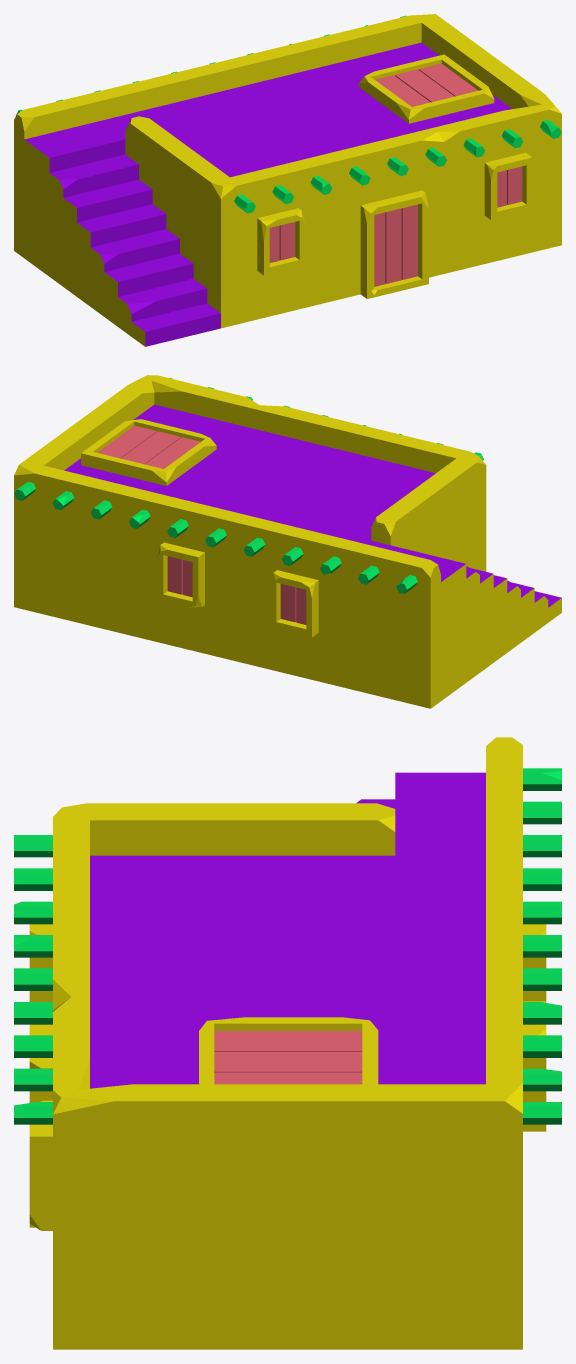
File: decoration-house-medium-egypt.fbx
3 renders of one model, top to bottom at view 1: azimuth 30°, elevation 25°; view 2: azimuth 150°, elevation 25°; view 3: azimuth 270°, elevation 25°, orthographic. The views are drawn at different scales.
Parts seen in each view (by area): view 1: decoration-house-medium-egypt; view 2: decoration-house-medium-egypt; view 3: decoration-house-medium-egypt.
Boxes of the visible parts, x1,y1,x2,y2 form: decoration-house-medium-egypt: [14, 14, 561, 346]; decoration-house-medium-egypt: [14, 375, 561, 708]; decoration-house-medium-egypt: [14, 737, 561, 1349].
Bounding box in the file's own units: 11 × 3.5 × 7.
